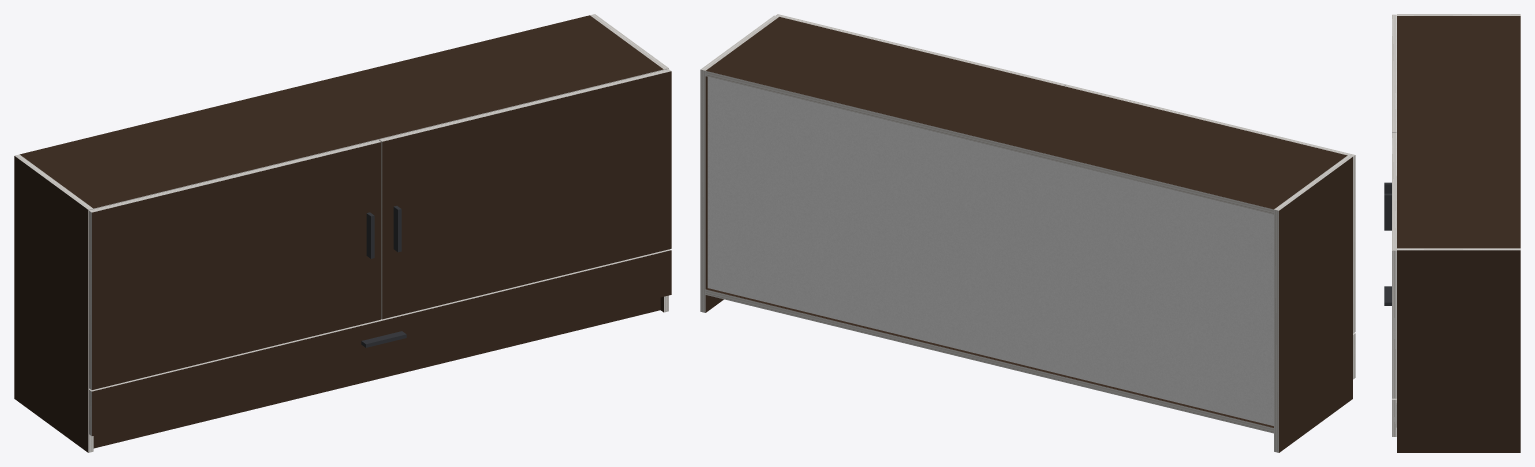
The model's file is BIB-SDB-long.glb.
3 views of the same model, side by side, from view 1: azimuth 30°, elevation 25°; view 2: azimuth 150°, elevation 25°; view 3: azimuth 270°, elevation 25° (orthographic). The views are drawn at different scales.
Visible parts, largest first — view 1: door-r:pbr, door-l:pbr, top:pbr, d1-front:pbr, side-l:pbr, plinth:pbr, pull, d1-front:sheet:eyJtIjoicGx5Iiwic2lkZSI6ImVkZ2UtbG9uZyIsInNlZ, door-l:sheet:eyJtIjoicGx5Iiwic2lkZSI6ImVkZ2UtbG9uZyIsInNlZWQ, door-r:sheet:eyJtIjoicGx5Iiwic2lkZSI6ImVkZ2UtbG9uZyIsInNlZWQ, top:sheet:eyJtIjoicGx5Iiwic2lkZSI6ImVkZ2UtbG9uZyIsInNlZWQiOj; view 2: back:sheet:eyJtIjoibWRmIiwic2lkZSI6ImZhY2UiLCJzZWVkIjoyLCJ0a, top:pbr, side-l:pbr, bottom:sheet:eyJtIjoicGx5Iiwic2lkZSI6ImVkZ2UtbG9uZyIsInNlZWQ, top:sheet:eyJtIjoicGx5Iiwic2lkZSI6ImVkZ2UtbG9uZyIsInNlZWQiOj, side-r:sheet:eyJtIjoicGx5Iiwic2lkZSI6ImVkZ2UtbG9uZyIsInNlZWQ, bottom:pbr, side-l:sheet:eyJtIjoicGx5Iiwic2lkZSI6ImVkZ2UtbG9uZyIsInNlZWQ, door-l:sheet:eyJtIjoicGx5Iiwic2lkZSI6ImVkZ2UtbG9uZyIsInNlZWQ, door-r:sheet:eyJtIjoicGx5Iiwic2lkZSI6ImVkZ2UtbG9uZyIsInNlZWQ, side-r:pbr; view 3: top:pbr, side-r:pbr, door-r:sheet:eyJtIjoicGx5Iiwic2lkZSI6ImVkZ2UtZW5kIiwic2VlZCI, door-l:sheet:eyJtIjoicGx5Iiwic2lkZSI6ImVkZ2UtbG9uZyIsInNlZWQ, door-r:sheet:eyJtIjoicGx5Iiwic2lkZSI6ImVkZ2UtbG9uZyIsInNlZWQ, pull, side-r:sheet:eyJtIjoicGx5Iiwic2lkZSI6ImVkZ2UtZW5kIiwic2VlZCI, side-l:sheet:eyJtIjoicGx5Iiwic2lkZSI6ImVkZ2UtZW5kIiwic2VlZCI, d1-box-front:sheet:eyJtIjoicGx5Iiwic2lkZSI6ImVkZ2UtbG9uZyIsI, d1-front:sheet:eyJtIjoicGx5Iiwic2lkZSI6ImVkZ2UtZW5kIiwic2VlZ.
Part boxes in pixels (x1,y1,x2,y2): door-r:pbr: [382, 71, 671, 319]; door-l:pbr: [92, 142, 381, 389]; top:pbr: [20, 15, 663, 208]; d1-front:pbr: [92, 250, 671, 435]; side-l:pbr: [14, 156, 88, 452]; plinth:pbr: [93, 297, 660, 448]; pull: [361, 206, 406, 347]; d1-front:sheet:eyJtIjoicGx5Iiwic2lkZSI6ImVkZ2UtbG9uZyIsInNlZ: [89, 249, 671, 391]; door-l:sheet:eyJtIjoicGx5Iiwic2lkZSI6ImVkZ2UtbG9uZyIsInNlZWQ: [89, 140, 380, 212]; door-r:sheet:eyJtIjoicGx5Iiwic2lkZSI6ImVkZ2UtbG9uZyIsInNlZWQ: [380, 69, 671, 141]; top:sheet:eyJtIjoicGx5Iiwic2lkZSI6ImVkZ2UtbG9uZyIsInNlZWQiOj: [94, 69, 663, 209]; back:sheet:eyJtIjoibWRmIiwic2lkZSI6ImZhY2UiLCJzZWVkIjoyLCJ0a: [707, 77, 1273, 425]; top:pbr: [706, 17, 1347, 209]; side-l:pbr: [1279, 157, 1352, 452]; bottom:sheet:eyJtIjoicGx5Iiwic2lkZSI6ImVkZ2UtbG9uZyIsInNlZWQ: [705, 289, 1273, 433]; top:sheet:eyJtIjoicGx5Iiwic2lkZSI6ImVkZ2UtbG9uZyIsInNlZWQiOj: [705, 71, 1273, 214]; side-r:sheet:eyJtIjoicGx5Iiwic2lkZSI6ImVkZ2UtbG9uZyIsInNlZWQ: [700, 69, 705, 312]; bottom:pbr: [706, 288, 1273, 427]; side-l:sheet:eyJtIjoicGx5Iiwic2lkZSI6ImVkZ2UtbG9uZyIsInNlZWQ: [1274, 209, 1278, 452]; door-l:sheet:eyJtIjoicGx5Iiwic2lkZSI6ImVkZ2UtbG9uZyIsInNlZWQ: [1065, 84, 1354, 156]; door-r:sheet:eyJtIjoicGx5Iiwic2lkZSI6ImVkZ2UtbG9uZyIsInNlZWQ: [775, 14, 1065, 85]; side-r:pbr: [705, 76, 723, 312]; top:pbr: [1397, 16, 1520, 248]; side-r:pbr: [1397, 250, 1520, 452]; door-r:sheet:eyJtIjoicGx5Iiwic2lkZSI6ImVkZ2UtZW5kIiwic2VlZCI: [1392, 250, 1396, 398]; door-l:sheet:eyJtIjoicGx5Iiwic2lkZSI6ImVkZ2UtbG9uZyIsInNlZWQ: [1392, 14, 1396, 132]; door-r:sheet:eyJtIjoicGx5Iiwic2lkZSI6ImVkZ2UtbG9uZyIsInNlZWQ: [1392, 133, 1396, 250]; pull: [1384, 182, 1391, 305]; side-r:sheet:eyJtIjoicGx5Iiwic2lkZSI6ImVkZ2UtZW5kIiwic2VlZCI: [1397, 248, 1520, 250]; side-l:sheet:eyJtIjoicGx5Iiwic2lkZSI6ImVkZ2UtZW5kIiwic2VlZCI: [1397, 14, 1520, 15]; d1-box-front:sheet:eyJtIjoicGx5Iiwic2lkZSI6ImVkZ2UtbG9uZyIsI: [1396, 178, 1396, 402]; d1-front:sheet:eyJtIjoicGx5Iiwic2lkZSI6ImVkZ2UtZW5kIiwic2VlZ: [1392, 400, 1396, 436].
Bounding box in the file's own units: 2 × 0.8 × 0.4869.
55 materials, 42 textured.
